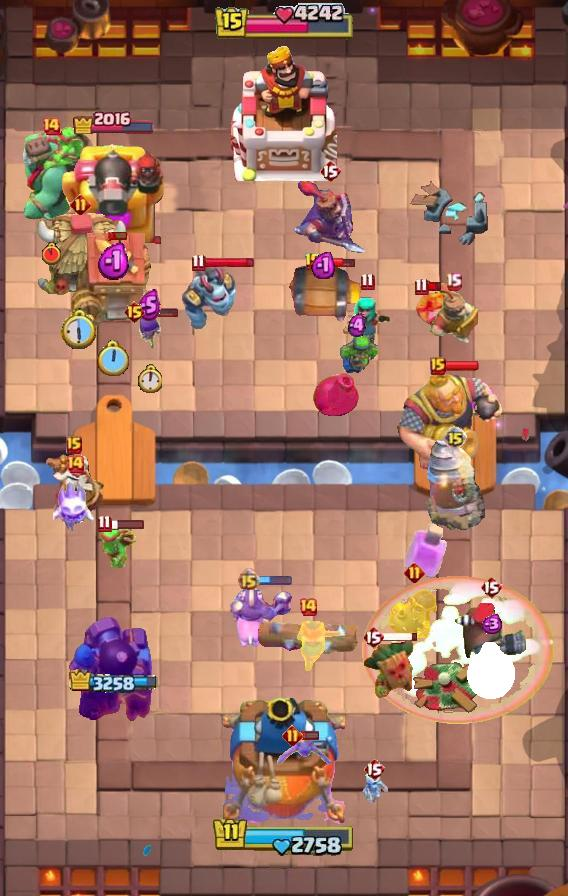baby-dragon: (310, 368, 362, 422)
barbarian: (276, 736, 334, 770)
clock: (212, 816, 356, 858), (213, 3, 355, 43)
earthquake: (428, 282, 478, 348)
electro-spirit: (96, 243, 131, 282), (137, 289, 161, 321), (311, 250, 335, 279), (479, 614, 503, 634), (348, 313, 366, 338)
elixir: (466, 642, 516, 700), (61, 308, 99, 350), (97, 341, 131, 380), (138, 364, 163, 392), (42, 242, 61, 266)
elixir-collector: (41, 451, 107, 521)
elixir-golem-big: (291, 178, 369, 256)
elixir-golem-small: (179, 262, 239, 332)
emote: (205, 256, 256, 269), (320, 256, 356, 269), (143, 306, 179, 318), (444, 360, 480, 372), (109, 518, 145, 530), (257, 574, 293, 586), (381, 630, 418, 641), (108, 231, 128, 242), (301, 731, 320, 742), (426, 280, 443, 291)
freeze: (230, 579, 294, 651)
giant-skeleton: (393, 370, 506, 474)
giant-snowball: (95, 523, 139, 571), (336, 335, 378, 375)
goblin: (134, 311, 164, 351)
goblin-ball: (387, 588, 441, 644)
goblin-barrel: (362, 636, 418, 700)
heal-spirit: (359, 773, 389, 805)
hog-rider: (295, 619, 343, 673)
king-tower: (223, 698, 345, 826), (231, 43, 337, 181)
knight-evolution: (403, 521, 447, 578)
lava-hound: (7, 124, 95, 222)
magic-archer: (425, 439, 485, 531)
minion: (256, 617, 359, 655)
mirror: (53, 478, 97, 532)
phoenix-big: (361, 574, 555, 725)
phoenix-small: (453, 602, 529, 662)
prince: (33, 211, 127, 301)
selected: (68, 669, 159, 696), (72, 108, 156, 134)
sparky: (71, 232, 157, 330)
text: (443, 426, 467, 450), (122, 300, 145, 324), (237, 568, 260, 591), (319, 159, 341, 183), (480, 575, 502, 599), (362, 625, 384, 649), (363, 757, 385, 781), (69, 194, 91, 215), (403, 561, 424, 583), (282, 726, 303, 747), (41, 116, 61, 136), (65, 454, 85, 474), (298, 597, 318, 617), (304, 252, 322, 272), (446, 273, 463, 291), (430, 357, 446, 375), (66, 436, 82, 454), (191, 253, 206, 272), (415, 276, 430, 295), (97, 514, 112, 533), (360, 273, 375, 291)
the-log: (283, 264, 363, 324)
tower-bar: (60, 138, 168, 256), (64, 615, 164, 731)
witch: (342, 296, 392, 350)
zap: (415, 289, 451, 329)
